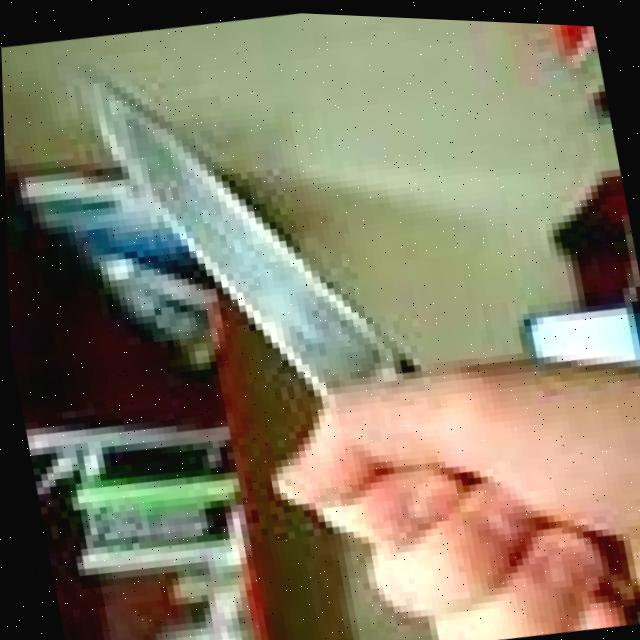knife: (80, 38, 418, 435)
